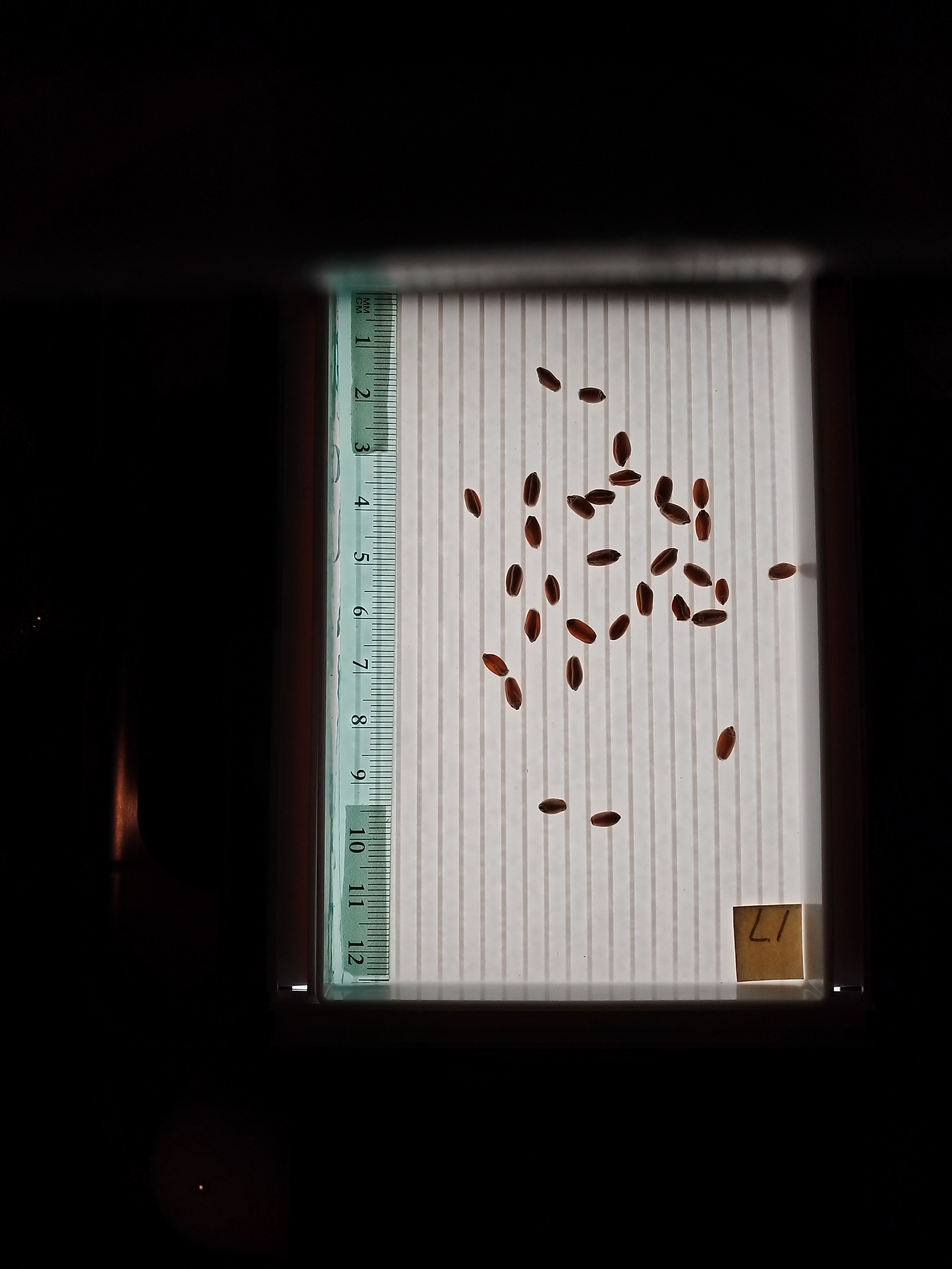seed mask: (567, 618, 596, 644), (651, 548, 677, 575), (660, 503, 690, 526), (684, 563, 712, 587), (612, 432, 631, 467), (716, 727, 736, 760), (568, 495, 595, 519), (523, 473, 541, 507), (693, 609, 727, 627), (566, 656, 583, 690), (524, 517, 542, 548), (655, 477, 673, 508), (692, 478, 710, 509), (537, 367, 560, 391), (524, 610, 541, 642), (636, 583, 653, 615), (588, 549, 619, 566), (609, 615, 630, 640), (505, 677, 521, 709), (610, 470, 640, 487), (506, 565, 523, 595), (591, 811, 621, 828), (464, 489, 482, 517), (483, 654, 507, 675), (696, 511, 711, 542), (544, 576, 560, 605), (588, 489, 615, 506), (769, 563, 796, 580), (672, 596, 690, 621), (579, 387, 605, 404), (539, 798, 565, 813), (716, 579, 729, 603)
